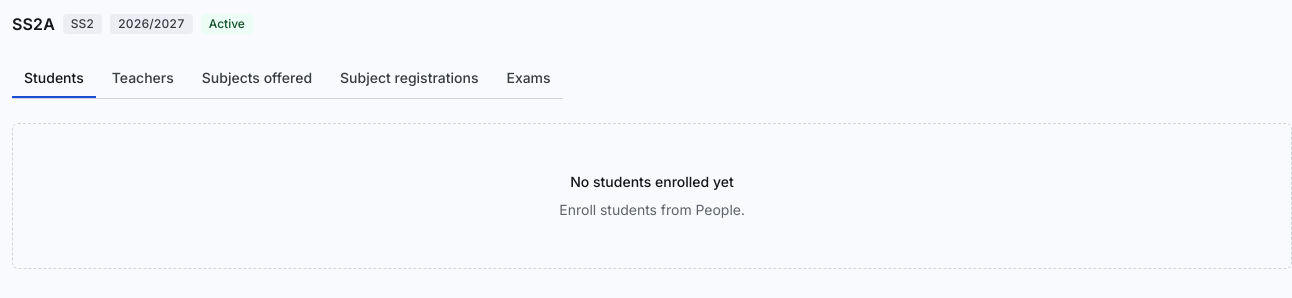
ClassDetailScreen › the Subjects offered tab lists real offerings via ClassSubjectList
Click the button "Subjects offered" at (257, 79), box [190,60,324,98]
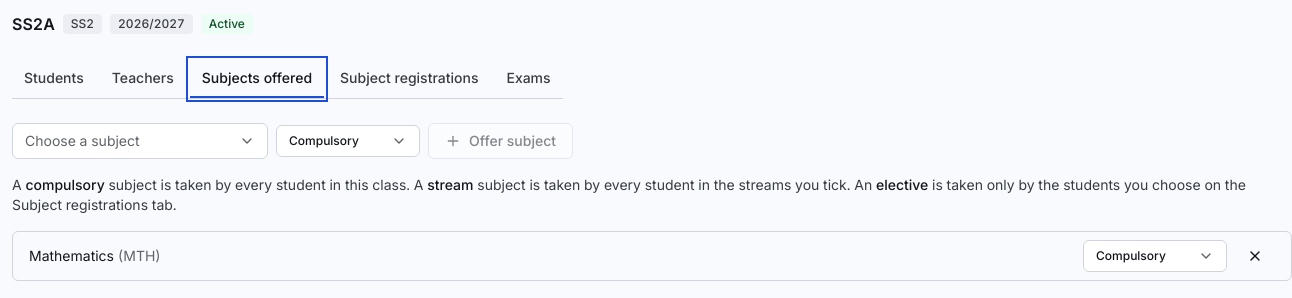
Check: the text "Mathematics (MTH)" is shown, box [29,246,161,266]
